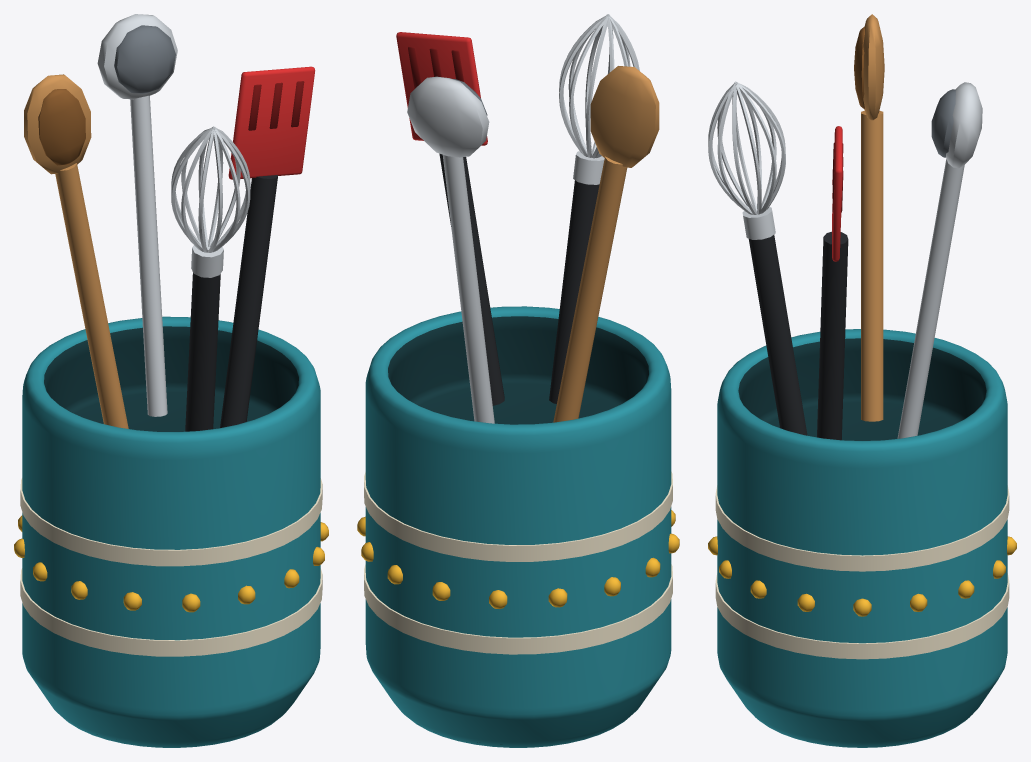
Rendered from utensil_pot.glb.
3 renders of one model, left to right at view 1: azimuth 30°, elevation 25°; view 2: azimuth 150°, elevation 25°; view 3: azimuth 270°, elevation 25°, orthographic. The views are drawn at different scales.
Parts seen in each view (by area): view 1: UtensilPot; view 2: UtensilPot; view 3: UtensilPot.
Part boxes in pixels (<box>): UtensilPot: <box>14,14,328,747</box>; UtensilPot: <box>357,14,679,747</box>; UtensilPot: <box>708,14,1016,747</box>.
Bounding box in the file's own units: 6.46 × 14.36 × 6.38.
